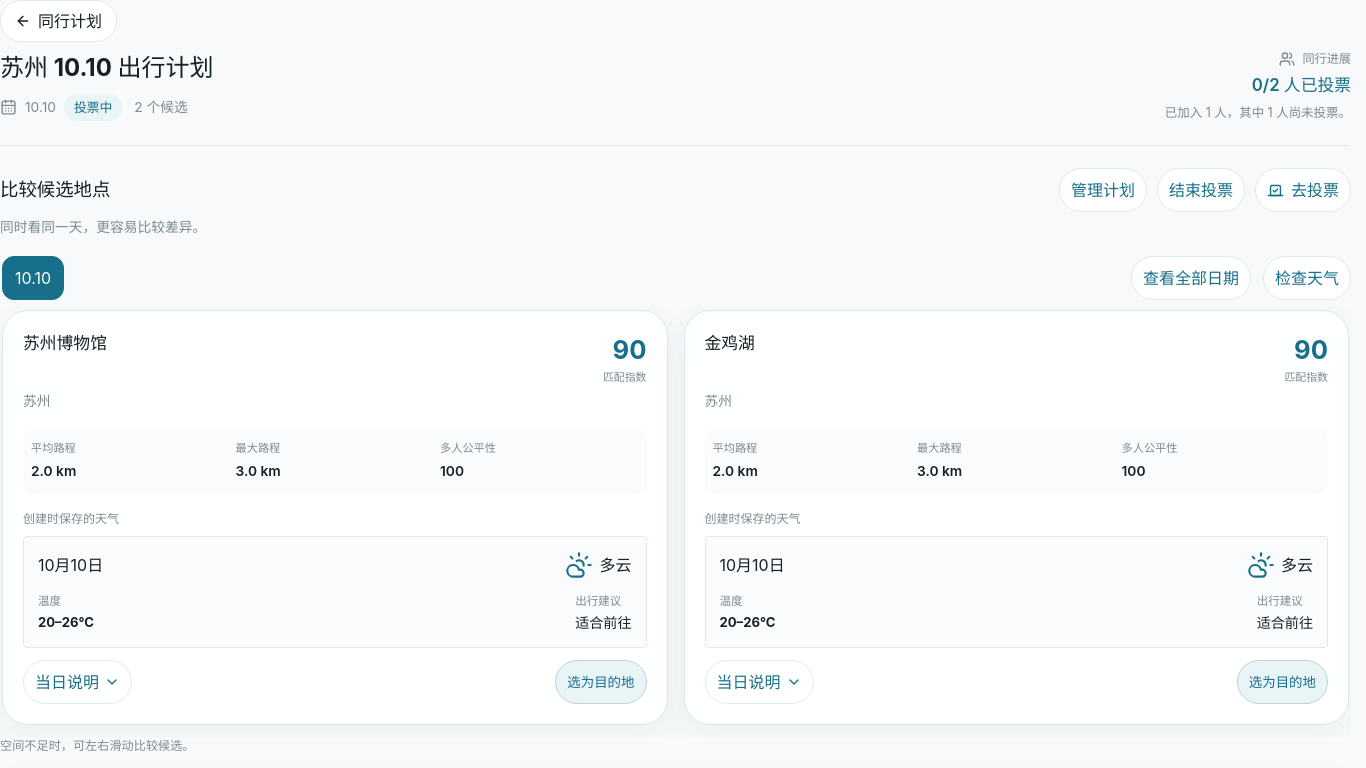
Test case: candidate weather is visible for one shared day and details expand on request
Expected: the heading "苏州 10.10 出行计划" is shown, [0, 53, 214, 82]
Expected: the text "创建时保存的天气" is shown 2 times, [23, 511, 119, 526]; [704, 511, 800, 526]
Click the button with aria-label "查看苏州博物馆详情": (78, 682) [23, 660, 132, 704]
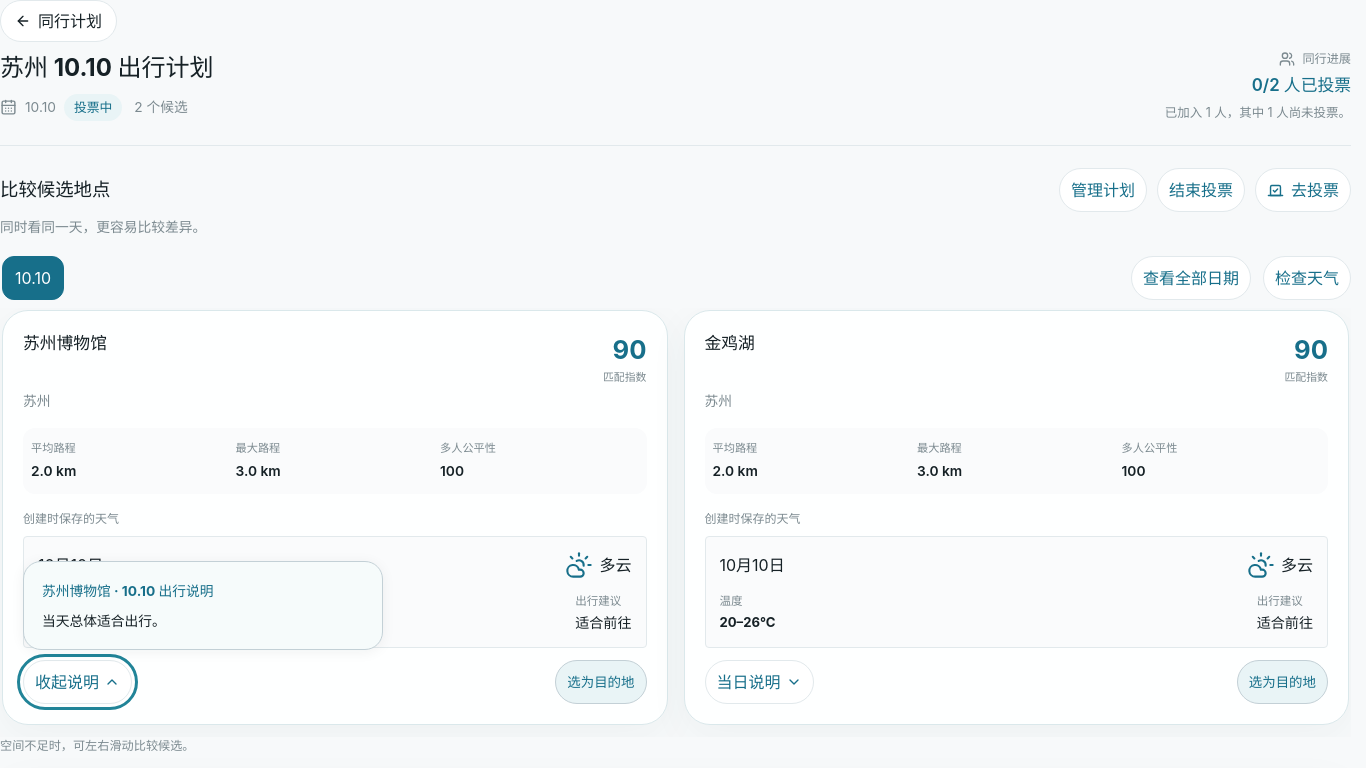
Expected: the button with aria-label "收起苏州博物馆详情" is expanded
Click the button with aria-label "收起苏州博物馆详情": (78, 682) [23, 660, 132, 704]
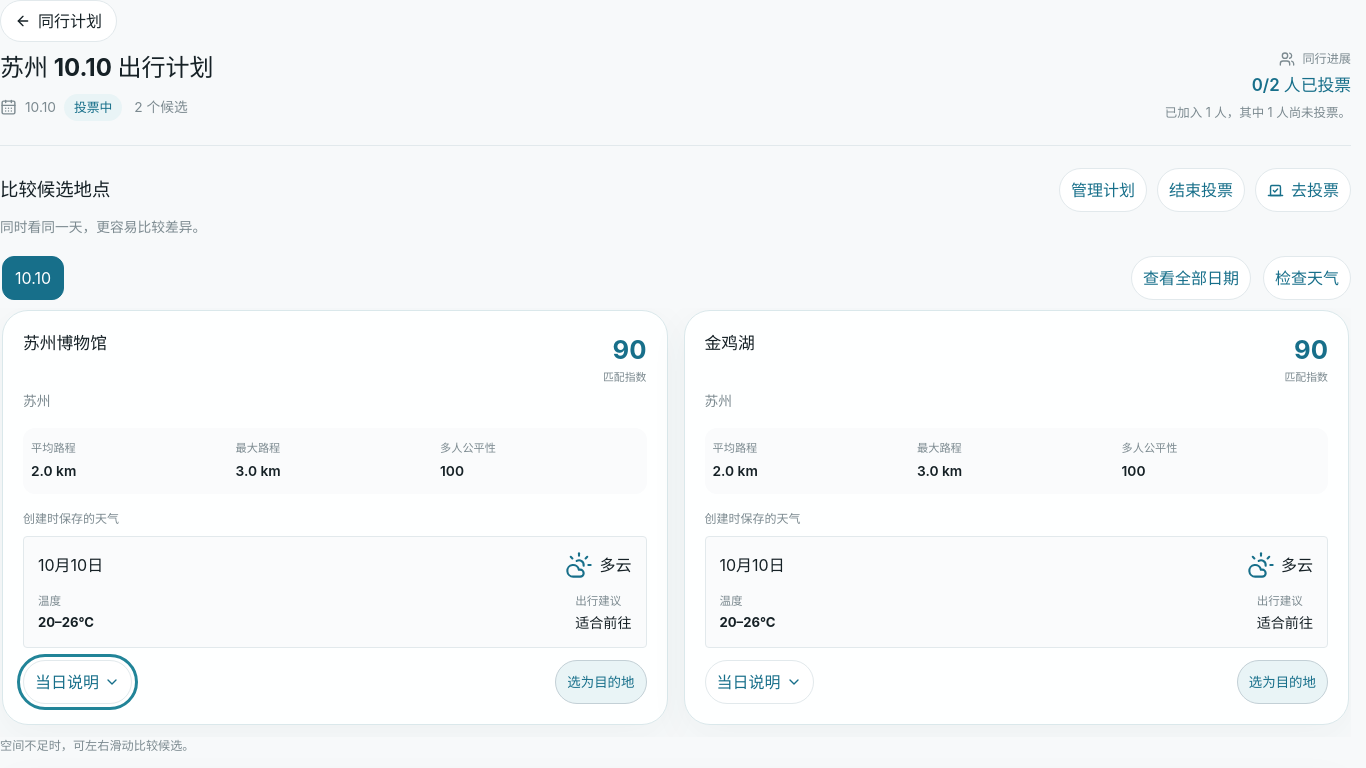
Expected: the button with aria-label "查看苏州博物馆详情" is collapsed, [23, 660, 132, 704]
